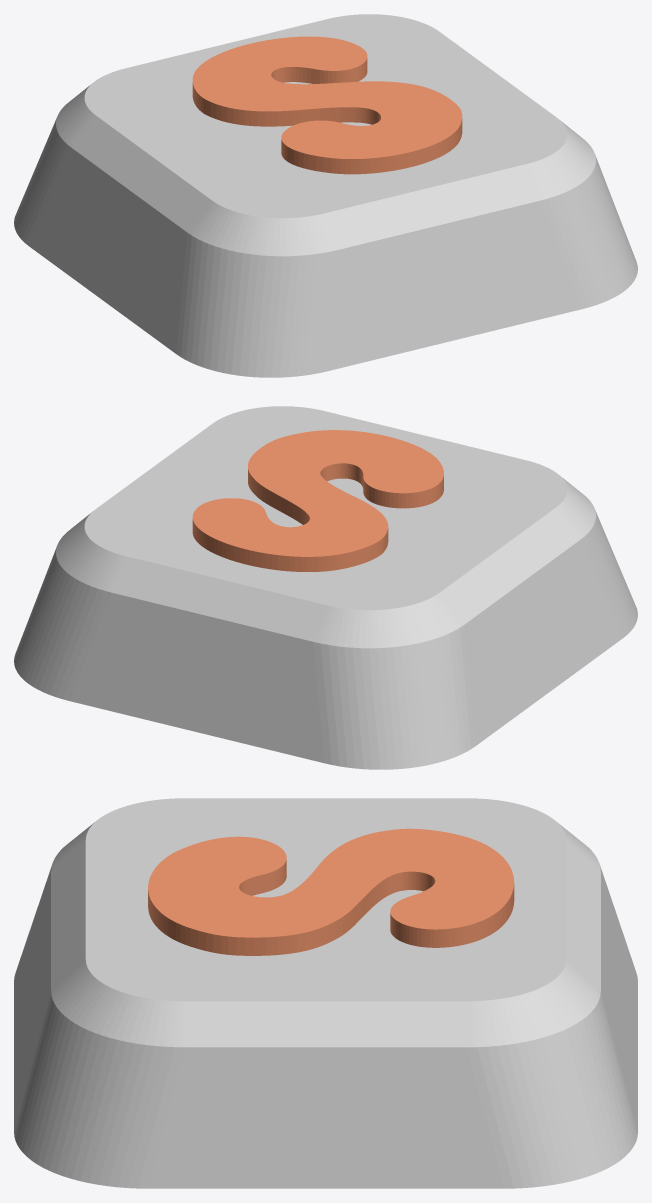
The model's file is cap-S.glb.
3 renders of one model, top to bottom at view 1: azimuth 30°, elevation 25°; view 2: azimuth 150°, elevation 25°; view 3: azimuth 270°, elevation 25°, orthographic. The views are drawn at different scales.
Parts seen in each view (by area): view 1: cap_0, glyph_1; view 2: cap_0, glyph_1; view 3: cap_0, glyph_1.
Part boxes in pixels (x1=…): cap_0: x1=14, y1=14, x2=637, y2=377; glyph_1: x1=192, y1=36, x2=462, y2=174; cap_0: x1=14, y1=406, x2=637, y2=769; glyph_1: x1=192, y1=430, x2=443, y2=571; cap_0: x1=14, y1=798, x2=637, y2=1188; glyph_1: x1=148, y1=828, x2=514, y2=955.
Size of the model in its own units: 18 by 5.59 by 18.
